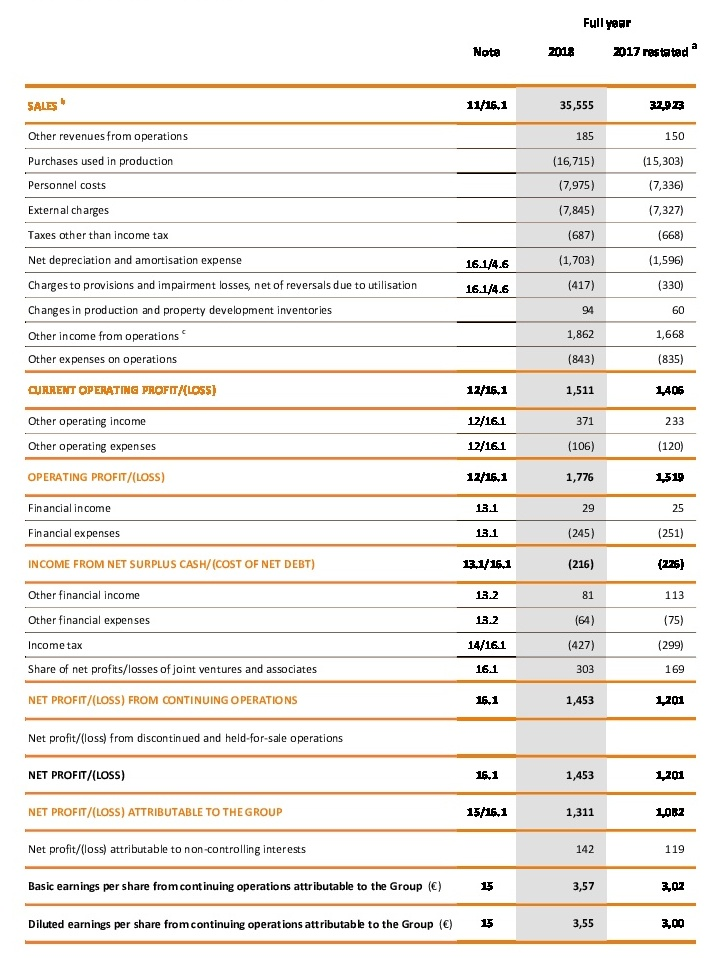table: (0, 0, 712, 958)
